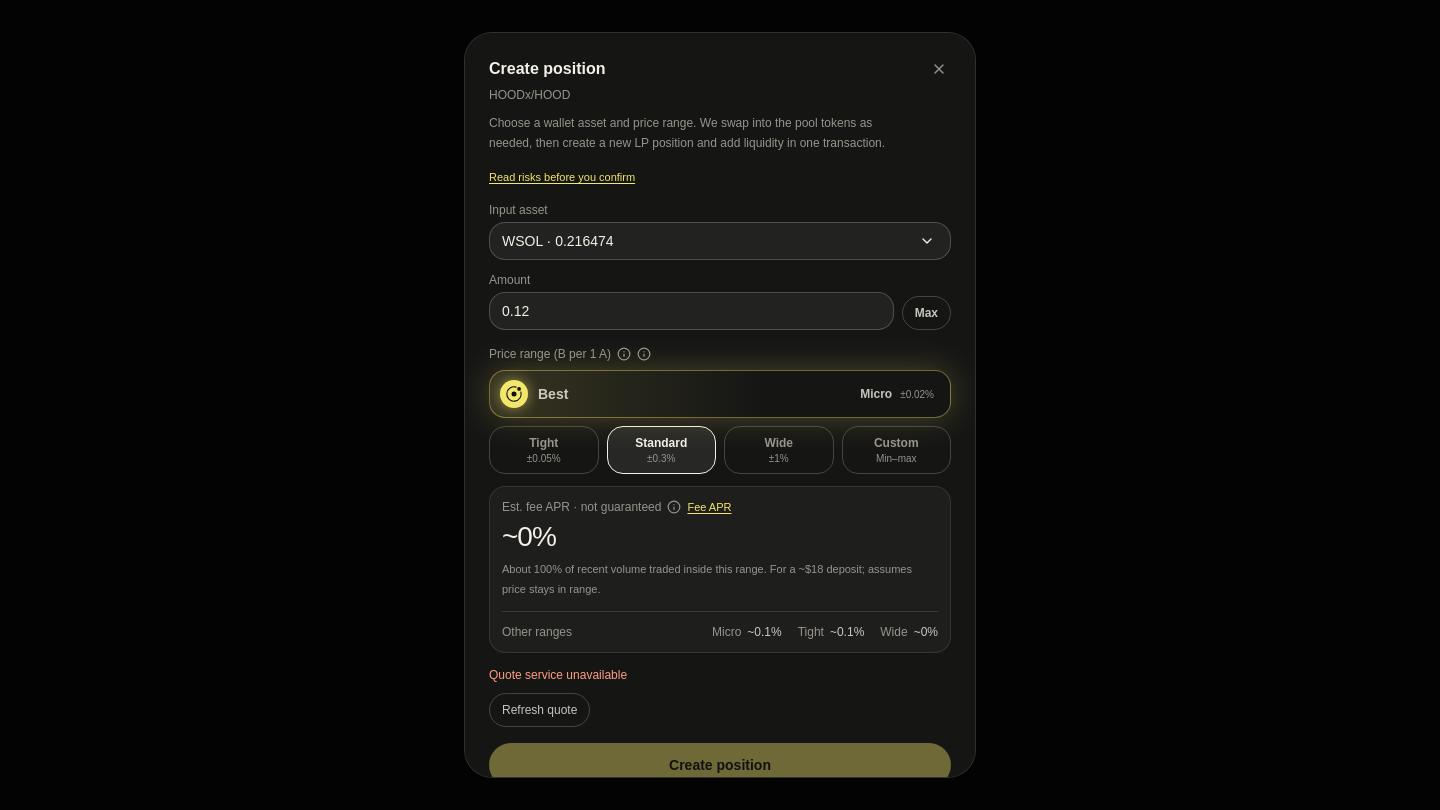
Test: open-position signing and quote refresh › lets the user retry a failed refresh without editing a valid amount
expect the button "Create position" is disabled: met, box [489,743,951,778]
Click the button "Refresh quote" at x=540, y=710, box [489,693,590,727]
Wait 450 ms
(page scrolled)
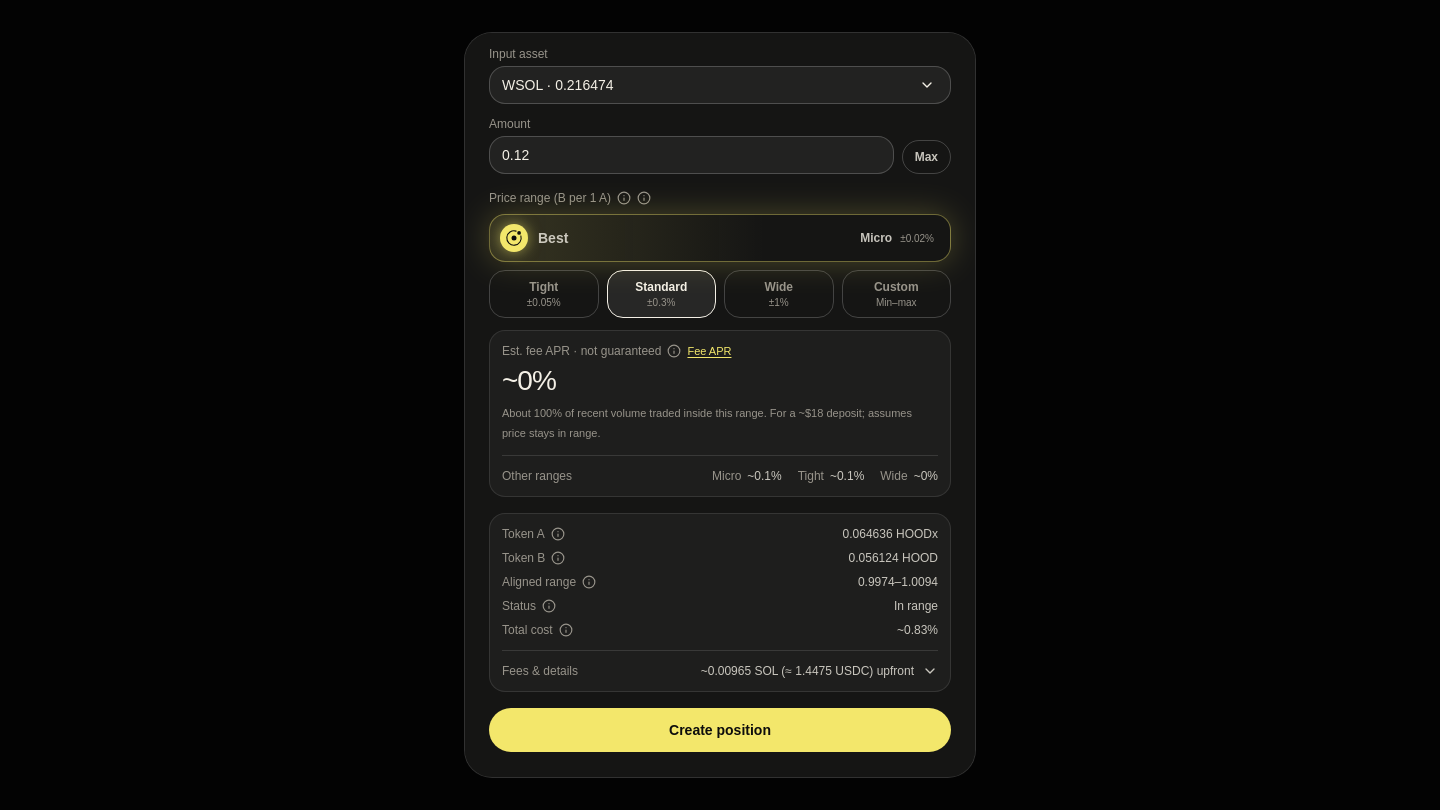
expect the button "Create position" is enabled: met, box [489,708,951,752]
